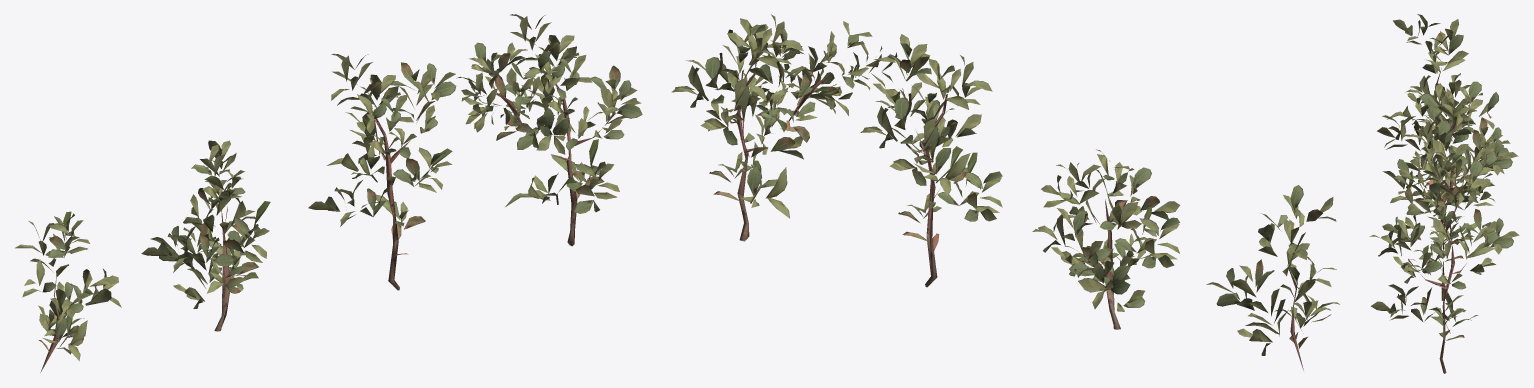
File: shrub.ce01c245.glb
3 renders of one model, left to right at view 1: azimuth 30°, elevation 25°; view 2: azimuth 150°, elevation 25°; view 3: azimuth 270°, elevation 25°, orthographic. The views are drawn at different scales.
Parts seen in each view (by area): view 1: shrub_04; view 2: shrub_04; view 3: shrub_04.
Part boxes in pixels (x1=…): shrub_04: x1=15, y1=14, x2=642, y2=372; shrub_04: x1=671, y1=14, x2=1339, y2=370; shrub_04: x1=1369, y1=14, x2=1519, y2=373.
Bounding box in the file's own units: 0.5837 × 0.2192 × 0.1461.
1 material, 1 textured.
